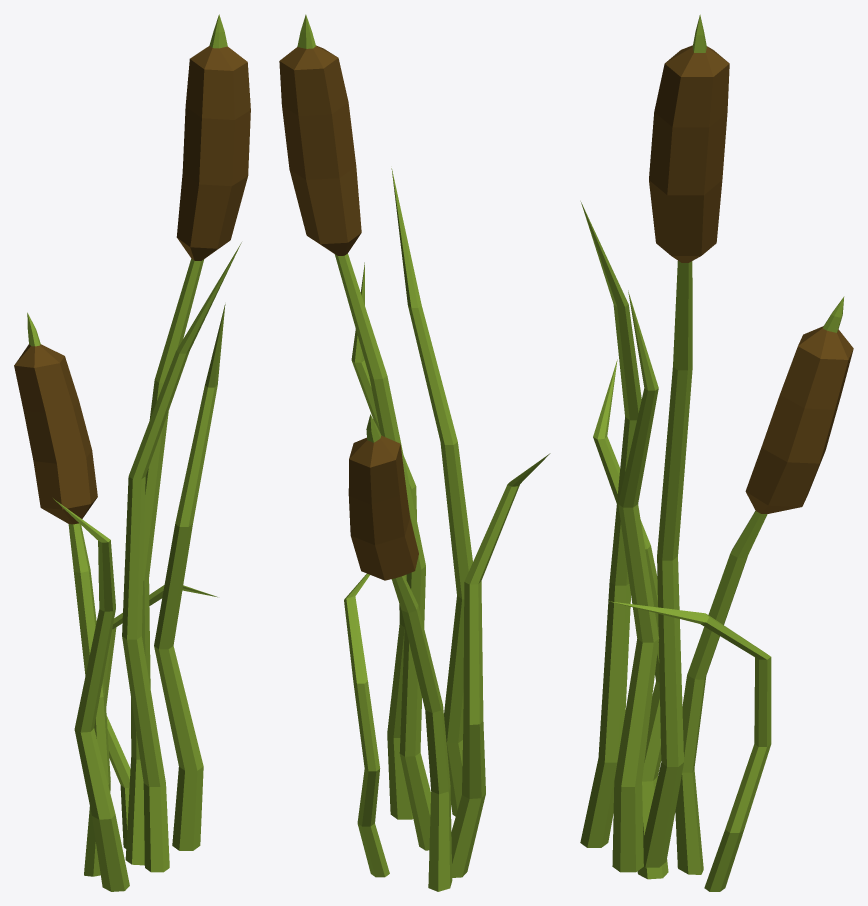
File: reed_lp.glb
3 renders of one model, left to right at view 1: azimuth 30°, elevation 25°; view 2: azimuth 150°, elevation 25°; view 3: azimuth 270°, elevation 25°, orthographic. The views are drawn at different scales.
Parts seen in each view (by area): view 1: Cylinder.663_Material.038_0, Cylinder.663_Material.039_0; view 2: Cylinder.663_Material.038_0, Cylinder.663_Material.039_0; view 3: Cylinder.663_Material.038_0, Cylinder.663_Material.039_0.
Part boxes in pixels (x1,y1,x2,y2): Cylinder.663_Material.038_0: [27, 14, 241, 891]; Cylinder.663_Material.039_0: [14, 46, 250, 524]; Cylinder.663_Material.038_0: [297, 14, 550, 891]; Cylinder.663_Material.039_0: [279, 45, 418, 580]; Cylinder.663_Material.038_0: [580, 14, 844, 891]; Cylinder.663_Material.039_0: [649, 45, 853, 513].
Bounding box in the file's own units: 0.442 × 1.56 × 0.4168.
